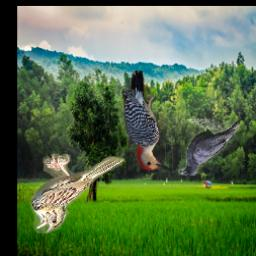Crow: (179, 119, 241, 176)
Sparrow: (30, 151, 126, 233)
Woodpecker: (121, 71, 170, 171)
